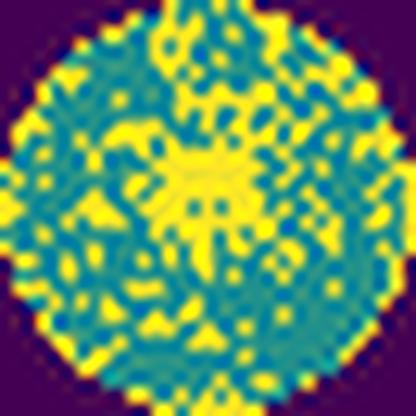Center: (100, 80, 301, 288)
